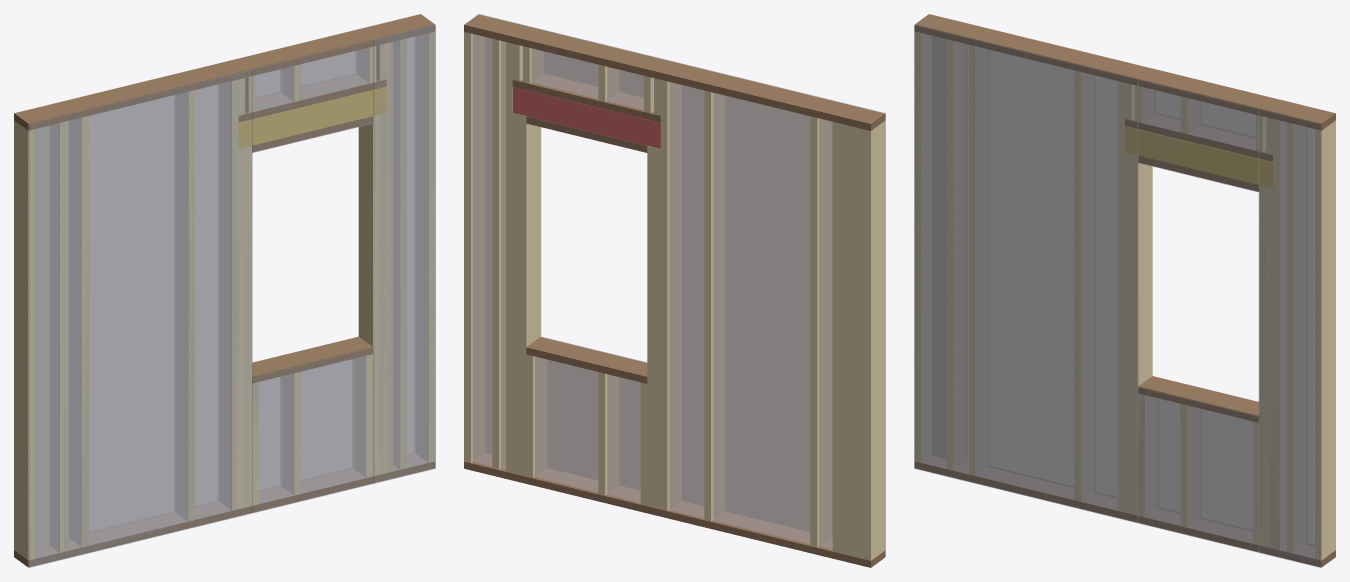
3 renders of one model, left to right at view 1: azimuth 30°, elevation 25°; view 2: azimuth 150°, elevation 25°; view 3: azimuth 330°, elevation 25°, orthographic.
Visible parts, largest first — view 1: EX16 FF; view 2: EX16 FF; view 3: EX16 FF.
Boxes of the visible parts, left/top/right/bottom form: EX16 FF: left=14, top=14, right=435, bottom=567; EX16 FF: left=464, top=14, right=885, bottom=567; EX16 FF: left=914, top=14, right=1335, bottom=567.
Bounding box in the file's own units: 2.3 × 2.4 × 0.149.
